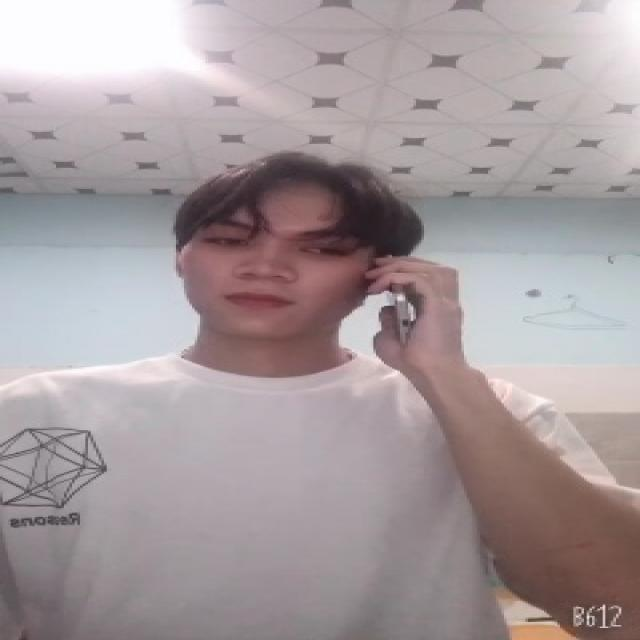Phone: (368, 251, 424, 357)
